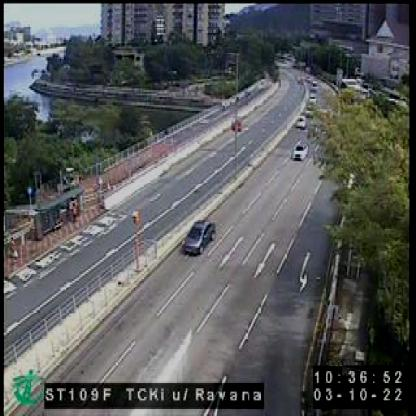Car: (182, 218, 213, 252), (291, 140, 307, 160)
